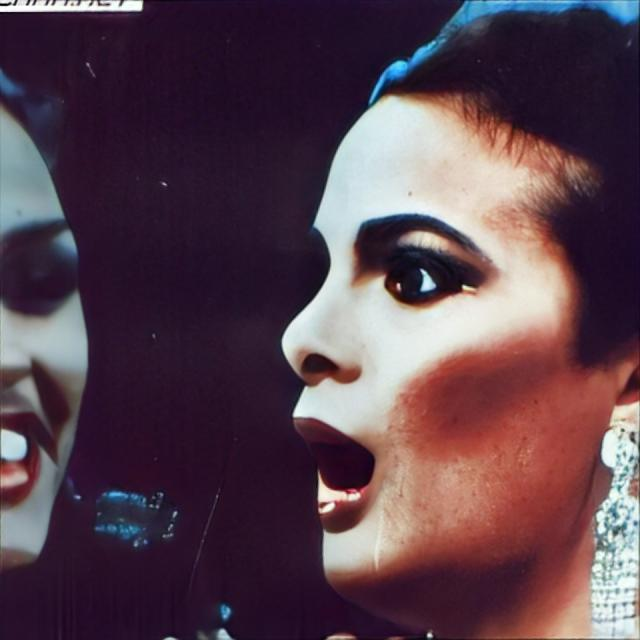surprise: (281, 91, 594, 594)
